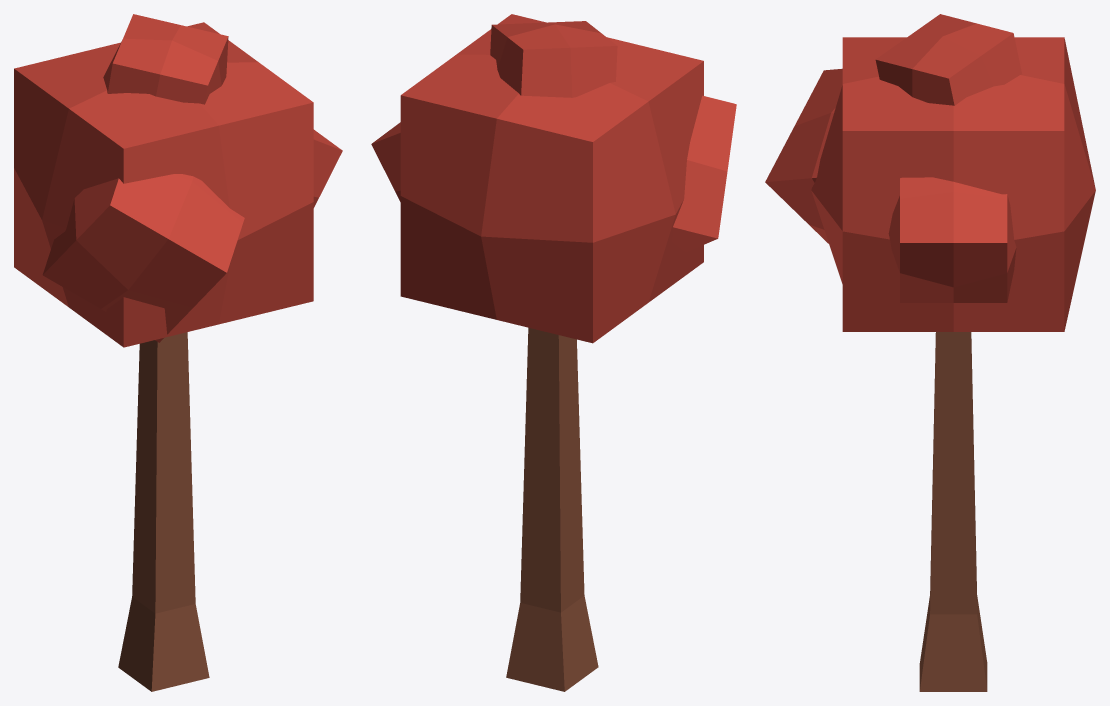
File: Tree_43_summer_red_mat.fbx
The picture shows the model from 3 angles, left to right: view 1: azimuth 30°, elevation 25°; view 2: azimuth 150°, elevation 25°; view 3: azimuth 270°, elevation 25°; orthographic projection.
Parts seen in each view (by area): view 1: Tree_43_summer_red_mat; view 2: Tree_43_summer_red_mat; view 3: Tree_43_summer_red_mat.
Boxes of the visible parts, <box> form: Tree_43_summer_red_mat: <box>14,14,342,691</box>; Tree_43_summer_red_mat: <box>371,14,736,691</box>; Tree_43_summer_red_mat: <box>765,14,1095,691</box>.
Bounding box in the file's own units: 76.72 × 158 × 73.68.
